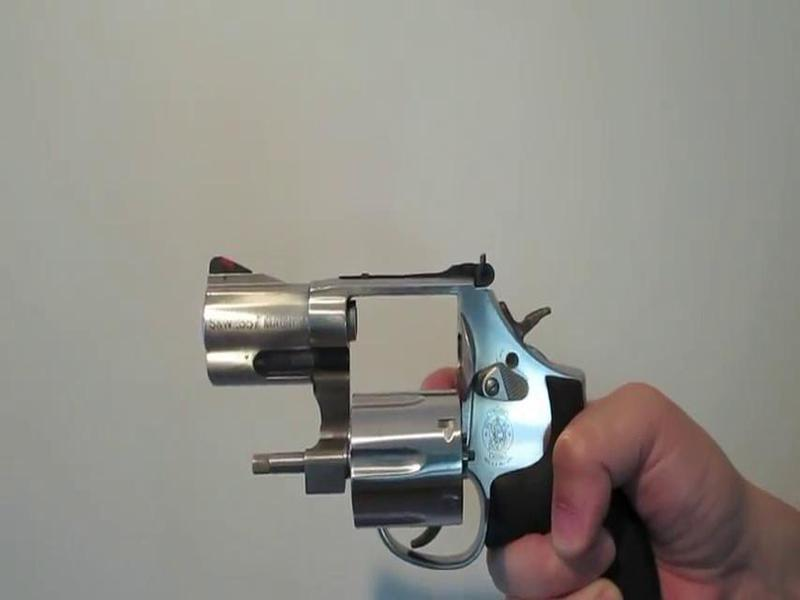Revolver: (177, 237, 687, 599)
